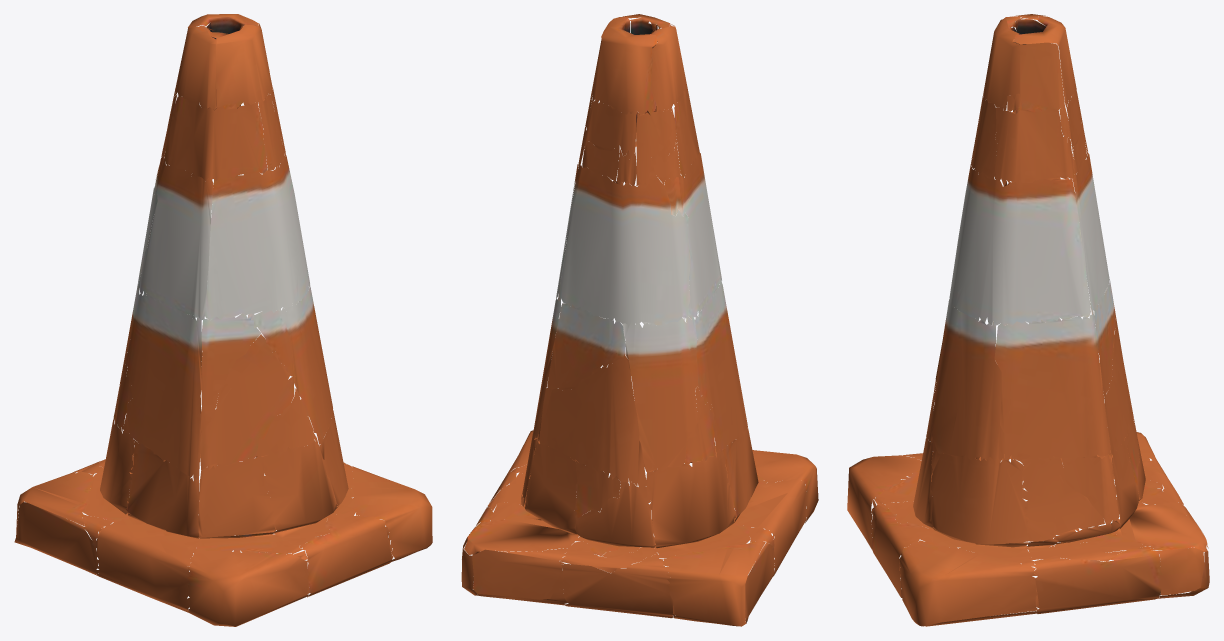
The model's file is prop06.glb.
The picture shows the model from 3 angles, left to right: view 1: azimuth 30°, elevation 25°; view 2: azimuth 150°, elevation 25°; view 3: azimuth 270°, elevation 25°; orthographic projection.
Parts seen in each view (by area): view 1: tripo_node_c1aa9dd7-6841-43f9-ab76-0a44c2ceb064; view 2: tripo_node_c1aa9dd7-6841-43f9-ab76-0a44c2ceb064; view 3: tripo_node_c1aa9dd7-6841-43f9-ab76-0a44c2ceb064.
Boxes of the visible parts, bbox=[...] form: tripo_node_c1aa9dd7-6841-43f9-ab76-0a44c2ceb064: bbox=[14, 14, 432, 626]; tripo_node_c1aa9dd7-6841-43f9-ab76-0a44c2ceb064: bbox=[461, 14, 818, 626]; tripo_node_c1aa9dd7-6841-43f9-ab76-0a44c2ceb064: bbox=[847, 14, 1209, 626].
Bounding box in the file's own units: 0.6292 × 0.9998 × 0.6232.
1 material, 1 textured.
